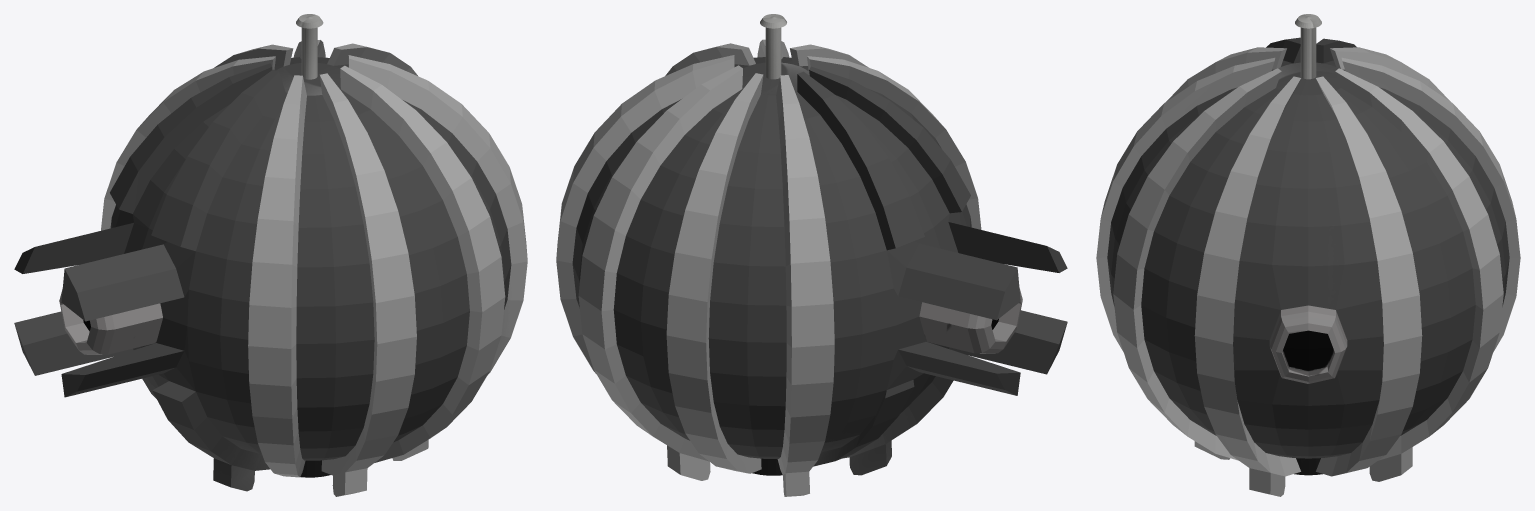
The model's file is drone.obj.
The picture shows the model from 3 angles, left to right: view 1: azimuth 30°, elevation 25°; view 2: azimuth 150°, elevation 25°; view 3: azimuth 270°, elevation 25°; orthographic projection.
Visible parts, largest first — view 1: Cube.012; view 2: Cube.012; view 3: Cube.012.
Boxes of the visible parts, x1,y1,x2,y2 form: Cube.012: [14, 14, 527, 496]; Cube.012: [556, 14, 1067, 496]; Cube.012: [1096, 14, 1520, 496].
Bounding box in the file's own units: 0.9208 × 0.8418 × 0.731.
